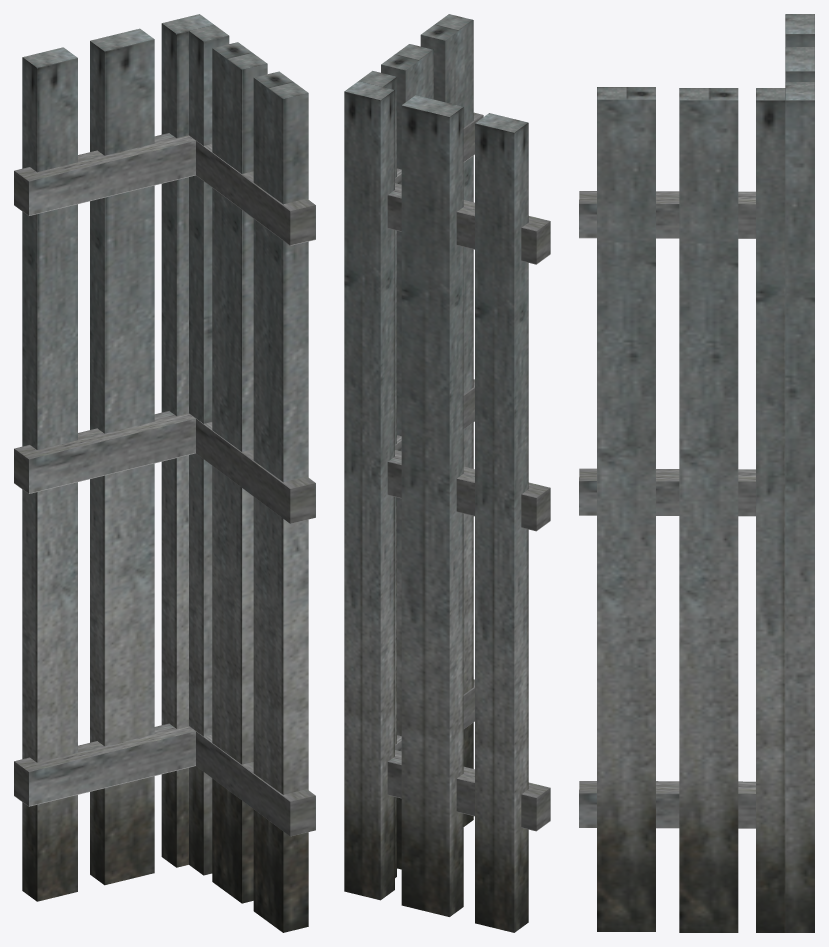
The model's file is fence_corner.obj.
The picture shows the model from 3 angles, left to right: view 1: azimuth 30°, elevation 25°; view 2: azimuth 150°, elevation 25°; view 3: azimuth 270°, elevation 25°; orthographic projection. The views are drawn at different scales.
Visible parts, largest first — view 1: dec; view 2: dec; view 3: dec.
Part boxes in pixels (box(x1,y1,x2,y2)): dec: box(14, 14, 315, 932); dec: box(344, 14, 550, 932); dec: box(579, 14, 814, 932).
Size of the model in its own units: 0.4722 by 1.95 by 0.5006.
Materials: 1 (1 with a texture image).
